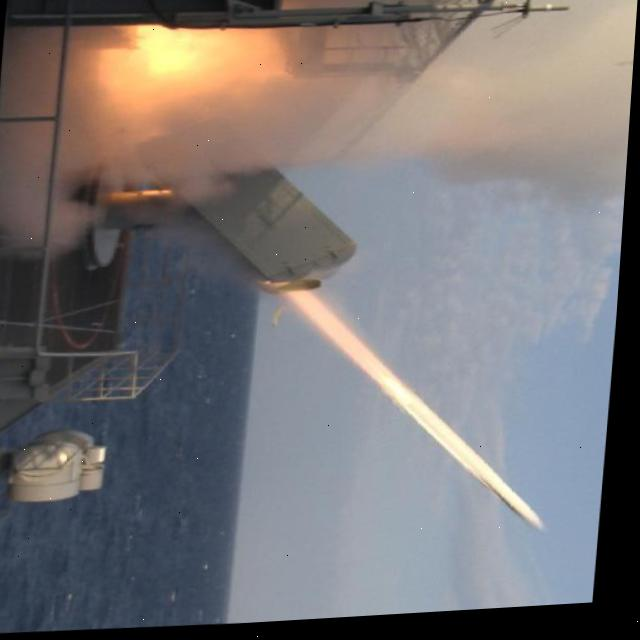missile: (464, 453, 559, 545)
